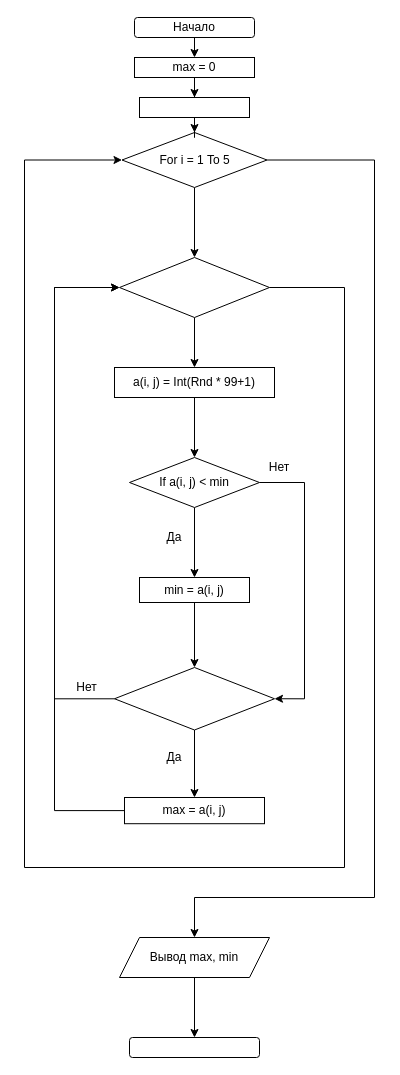
Some shapes in this 400 by 1075 pixel diagram are drawn without their labels. Each missing label, with the centre of its shape:
"ElseIf a(i, j) > max" belongs at (194,698).
"For j = 1 To 5" belongs at (194,287).
"min=100" belongs at (194,107).
"Конец" belongs at (194,1047).
